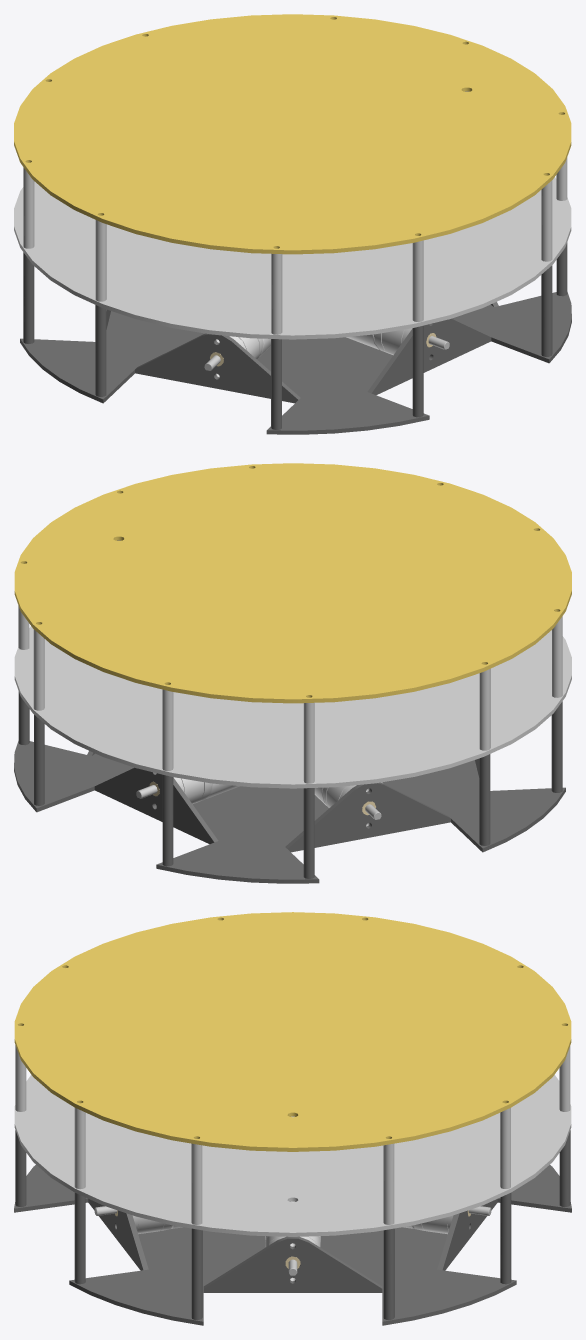
The picture shows the model from 3 angles, top to bottom: view 1: azimuth 30°, elevation 25°; view 2: azimuth 150°, elevation 25°; view 3: azimuth 270°, elevation 25°; orthographic projection.
Parts seen in each view (by area): view 1: base_link_5; view 2: base_link_5; view 3: base_link_5.
Part boxes in pixels (left/top/right/bottom): base_link_5: left=14, top=14, right=571, bottom=434; base_link_5: left=14, top=463, right=571, bottom=883; base_link_5: left=14, top=912, right=571, bottom=1325.
Size of the model in its own units: 0.25 by 0.25 by 0.091.
